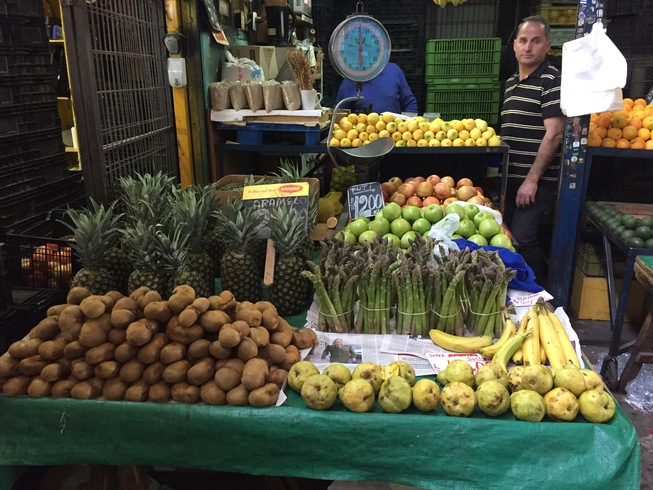precio: (247, 184, 307, 236), (342, 178, 391, 225)
